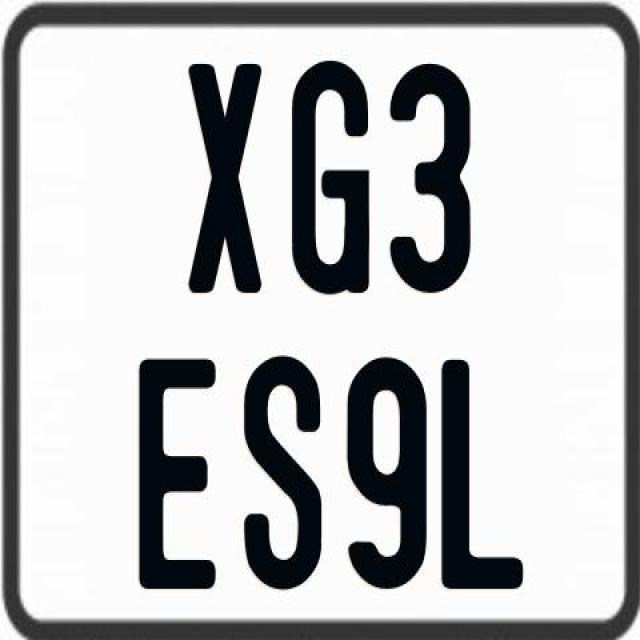3: (389, 59, 474, 296)
9: (346, 352, 434, 590)
E: (137, 358, 219, 597)
G: (288, 60, 371, 302)
L: (440, 360, 530, 589)
S: (241, 355, 324, 595)
X: (184, 60, 262, 298)
